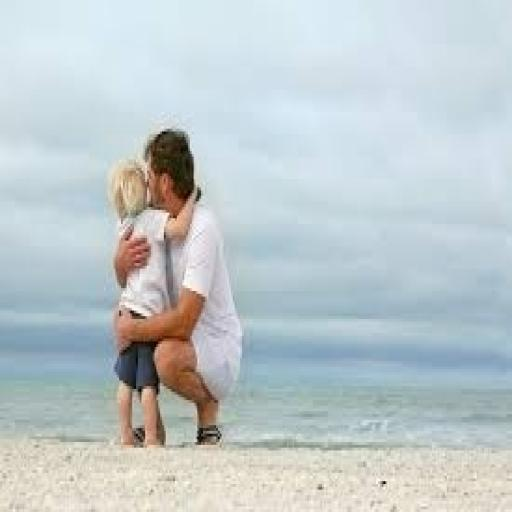hugging: (106, 126, 246, 450)
